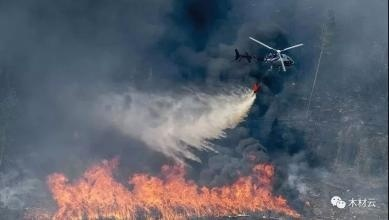fire: (35, 151, 304, 217)
